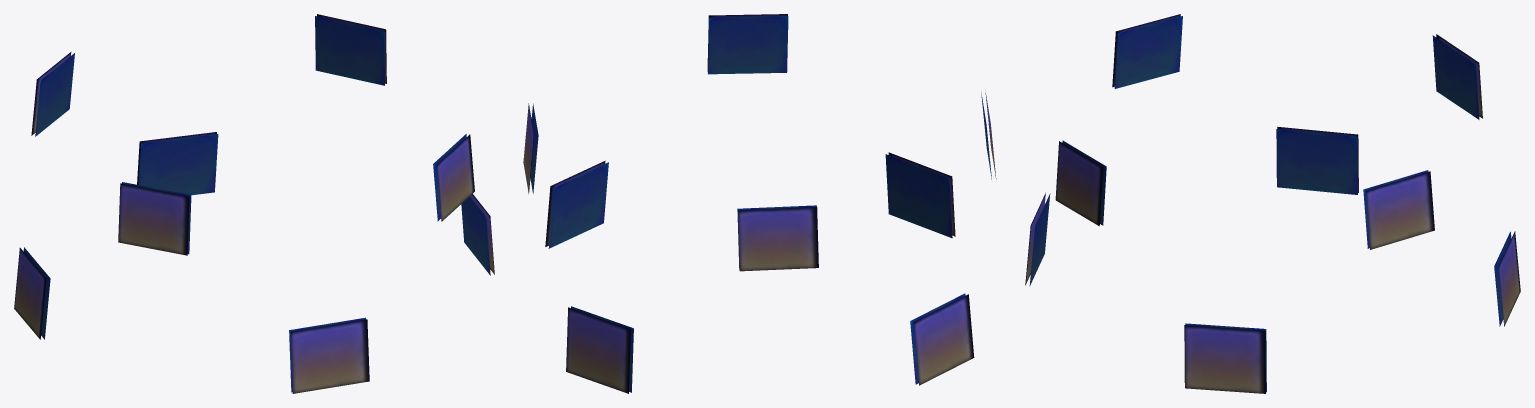
The model's file is cylinder_house_50m_2floor_glass.DAE.
3 views of the same model, side by side, from view 1: azimuth 30°, elevation 25°; view 2: azimuth 150°, elevation 25°; view 3: azimuth 270°, elevation 25° (orthographic). The views are drawn at different scales.
Visible parts, largest first — view 1: Box02-Pivot; view 2: Box02-Pivot; view 3: Box02-Pivot.
Part boxes in pixels (bbox=[...]): Box02-Pivot: bbox=[14, 14, 494, 393]; Box02-Pivot: bbox=[523, 14, 996, 393]; Box02-Pivot: bbox=[1025, 14, 1520, 393].
Bounding box in the file's own units: 42.91 × 18.18 × 43.04.
